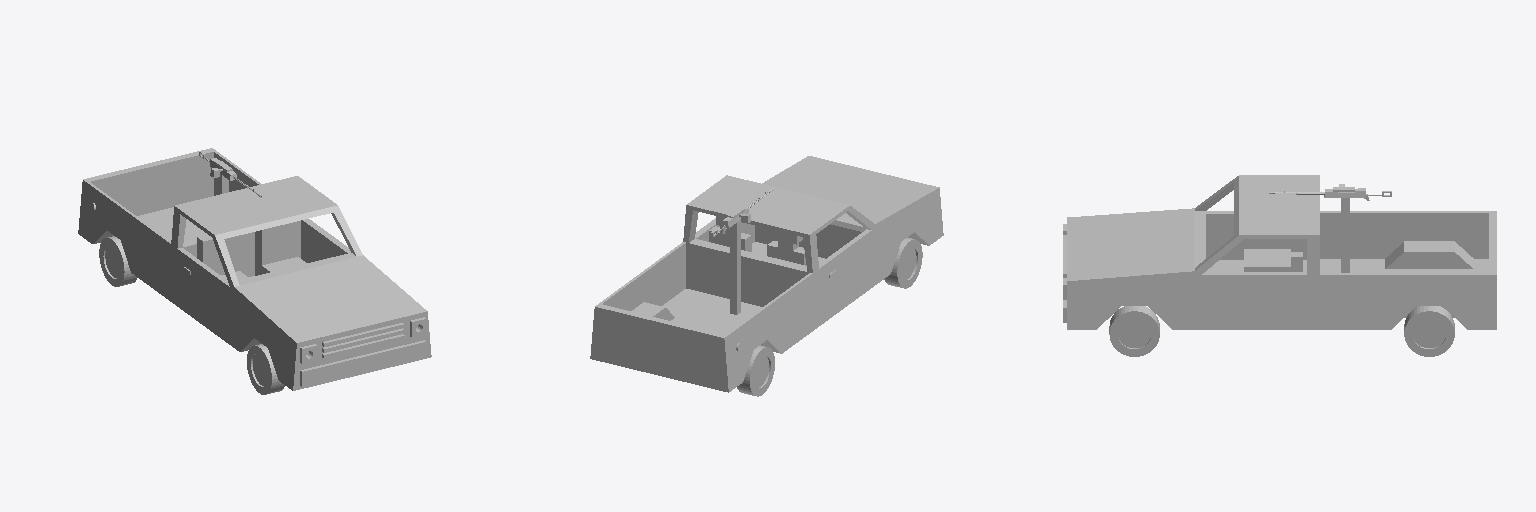
Rendered from technical.obj.
3 views of the same model, side by side, from view 1: azimuth 30°, elevation 25°; view 2: azimuth 150°, elevation 25°; view 3: azimuth 270°, elevation 25° (orthographic).
Parts seen in each view (by area): view 1: technical_v7; view 2: technical_v7; view 3: technical_v7.
Part boxes in pixels (x1,y1,x2,y2): technical_v7: (78, 148, 431, 394); technical_v7: (590, 156, 943, 396); technical_v7: (1063, 175, 1496, 356).
Bounding box in the file's own units: 1.9 × 1.76 × 5.15.